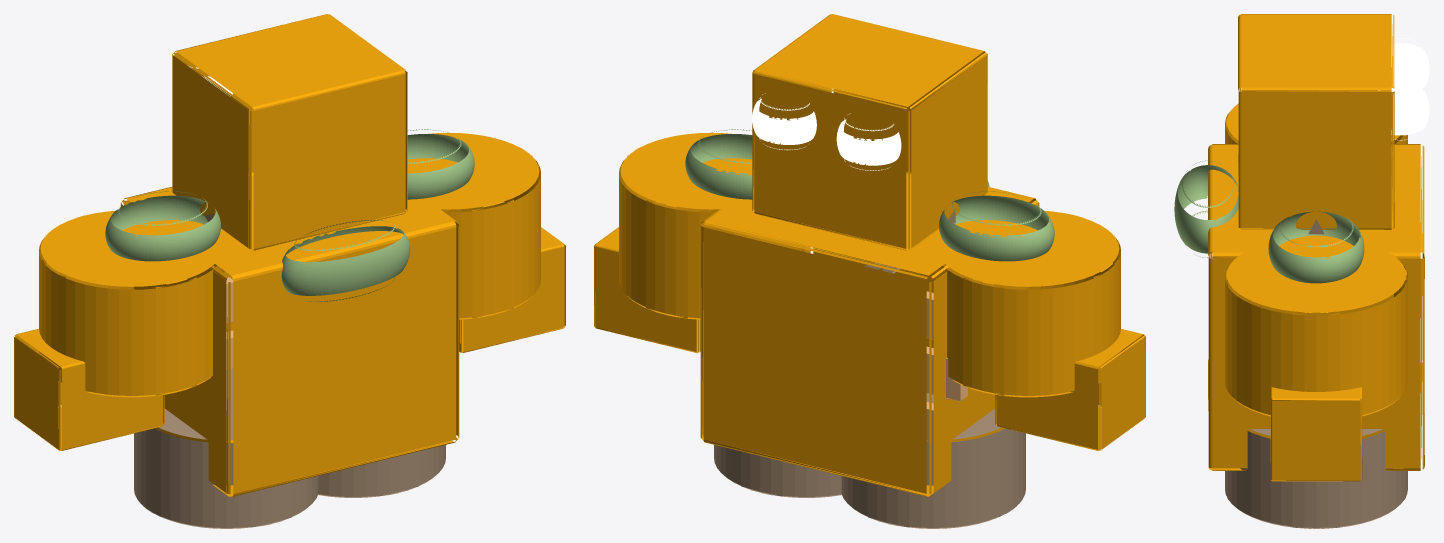
File: brix.glb
The picture shows the model from 3 angles, left to right: view 1: azimuth 30°, elevation 25°; view 2: azimuth 150°, elevation 25°; view 3: azimuth 270°, elevation 25°; orthographic projection.
Visible parts, largest first — view 1: brix_body, brix_head, brix_arm_l, brix_arm_r, brix_leg_l, brix_hand_l, brix_moss_l, brix_moss_back, brix_hand_r, brix_leg_r, brix_moss_r; view 2: brix_body, brix_head, brix_arm_l, brix_arm_r, brix_leg_l, brix_hand_l, brix_moss_l, brix_hand_r, brix_leg_r, brix_moss_r, brix_eye_r, brix_eye_l (+1 smaller); view 3: brix_head, brix_arm_r, brix_body, brix_leg_r, brix_hand_r, brix_moss_r, brix_moss_back, brix_eye_r, brix_eye_l, brix_arm_l.
Part boxes in pixels (x1,y1,x2,y2): brix_body: (120,171,459,496); brix_head: (172,14,407,250); brix_arm_l: (39,210,224,397); brix_arm_r: (407,132,540,319); brix_leg_l: (134,368,318,528); brix_hand_l: (14,329,164,450); brix_moss_l: (105,191,220,261); brix_moss_back: (281,220,410,302); brix_hand_r: (459,227,565,352); brix_leg_r: (318,445,445,497); brix_moss_r: (407,129,474,199); brix_body: (700,171,1039,496); brix_head: (752,14,987,250); brix_arm_l: (935,210,1120,397); brix_arm_r: (619,132,804,319); brix_leg_l: (841,393,1025,528); brix_hand_l: (995,329,1145,450); brix_moss_l: (939,191,1054,261); brix_hand_r: (594,227,700,353); brix_leg_r: (714,445,841,497); brix_moss_r: (685,129,752,199); brix_eye_r: (752,93,816,150); brix_eye_l: (836,113,901,170); brix_head: (1238,14,1394,229); brix_arm_r: (1225,237,1407,416); brix_body: (1208,144,1424,470); brix_leg_r: (1225,429,1407,528); brix_hand_r: (1270,387,1362,481); brix_moss_r: (1268,208,1364,283); brix_moss_back: (1174,160,1238,257); brix_eye_r: (1378,78,1429,140); brix_eye_l: (1391,38,1429,88); brix_arm_l: (1225,103,1407,143).
Size of the model in its own units: 2.4 by 1.87 by 1.06.
